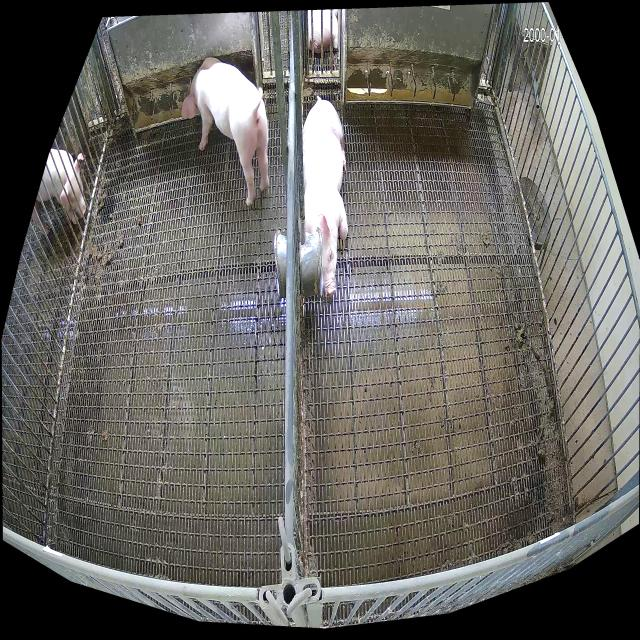pig: (182, 58, 270, 205), (301, 96, 348, 297)
